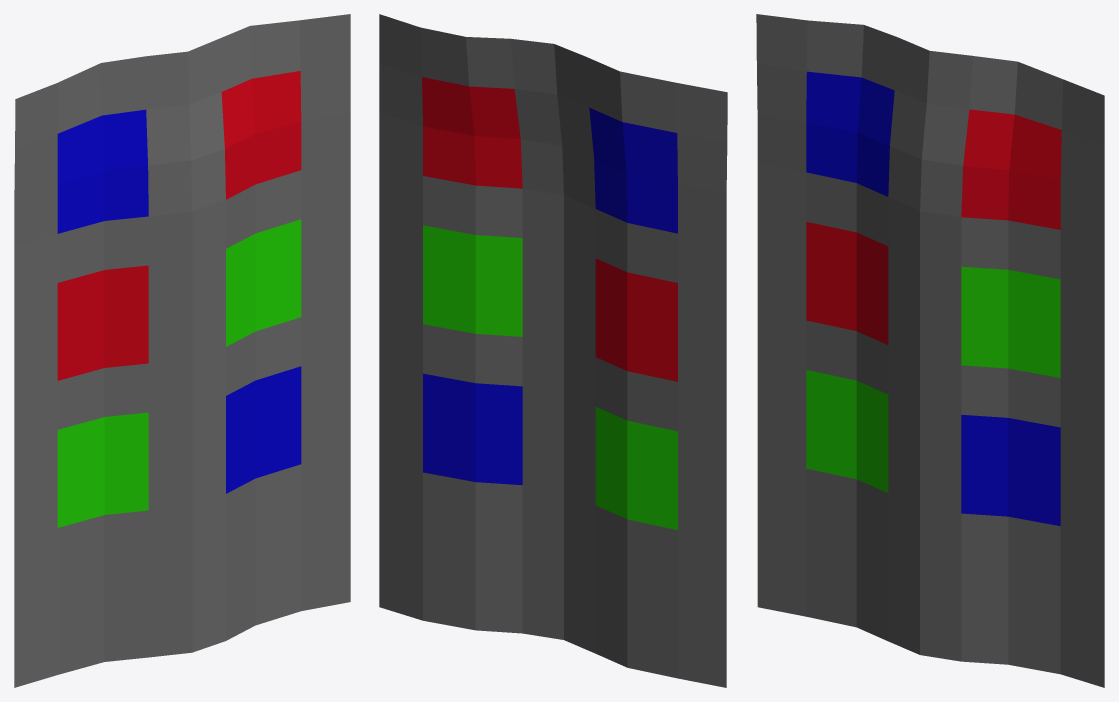
Rendered from cortinaLocura.fbx.
3 renders of one model, left to right at view 1: azimuth 30°, elevation 25°; view 2: azimuth 150°, elevation 25°; view 3: azimuth 330°, elevation 25°, orthographic.
Visible parts, largest first — view 1: Plane; view 2: Plane; view 3: Plane.
Part boxes in pixels (x1=…): Plane: x1=14, y1=14, x2=350, y2=687; Plane: x1=379, y1=14, x2=727, y2=687; Plane: x1=756, y1=14, x2=1104, y2=687.
Size of the model in its own units: 594 by 994 by 59.47.
